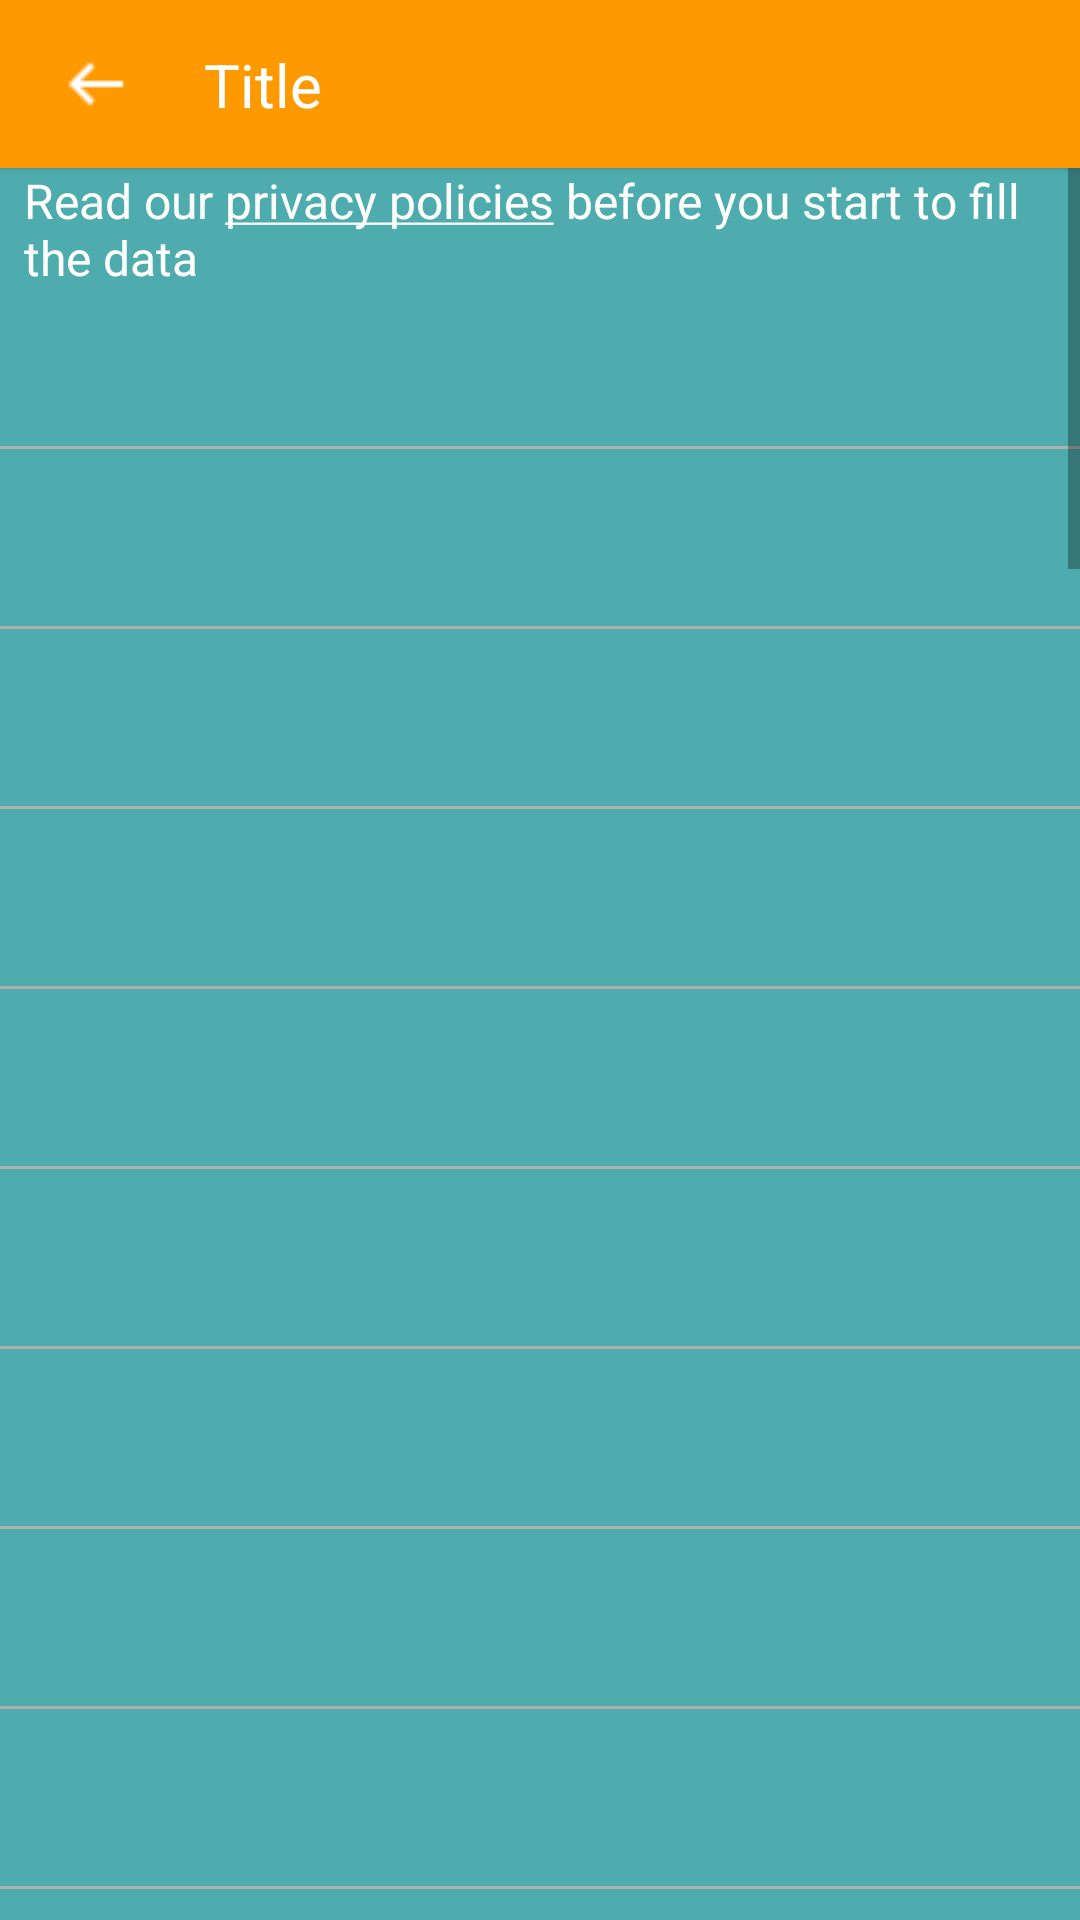

Named icons in this screenshot (1080w x 1920h) and their bounding boxes, (x1, y1, x2, y2):
back: (68, 62, 124, 106)
